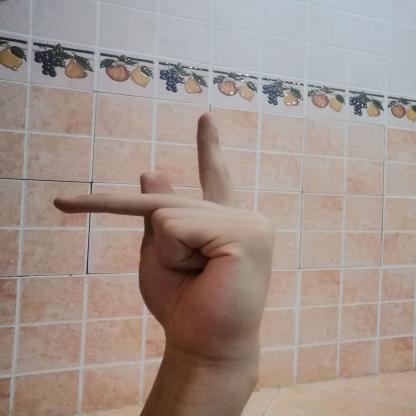DHAA: (40, 105, 293, 366)
